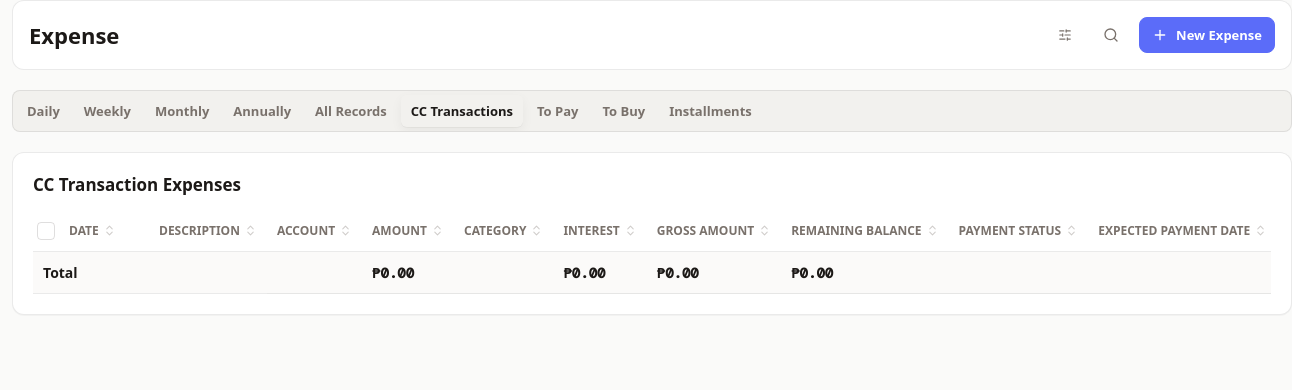
Test: CC Transaction Monthly passes matching purchase-date bounds
What coordinates should you click on to do the following:
click the button named "Filters"
I would click on:
 (1065, 35)
Its box is [1047,19,1083,51].
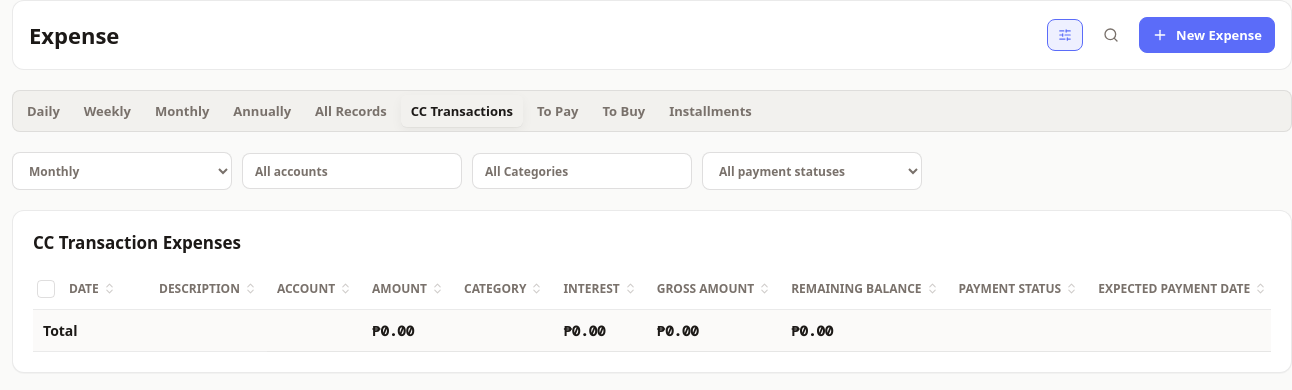
Now the dropdown named "CC Transaction period" shows "Monthly", box [12,152,232,190]
